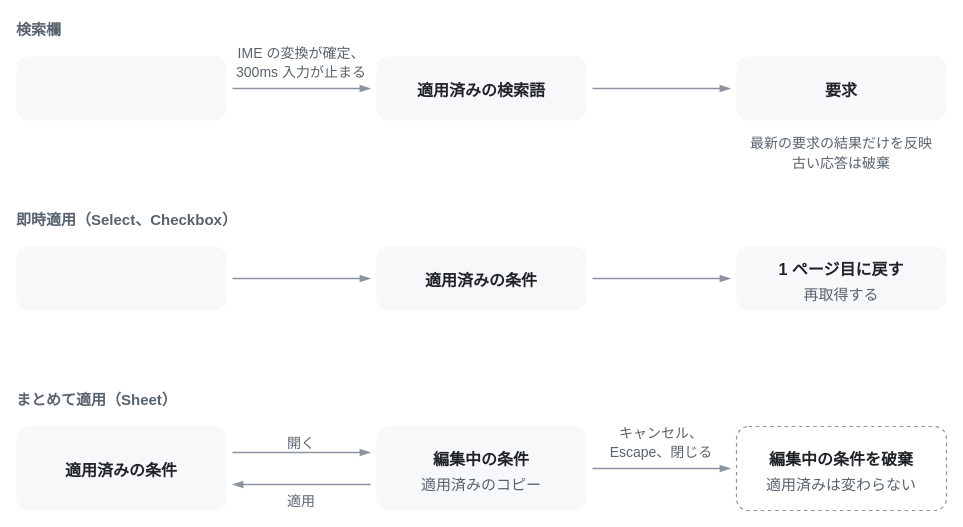
Image size: 963x527. Some labels were removed from this diagram. Each missing label, with the box of its shape:
入力値: (16, 56, 226, 120)
操作: (16, 246, 226, 310)
